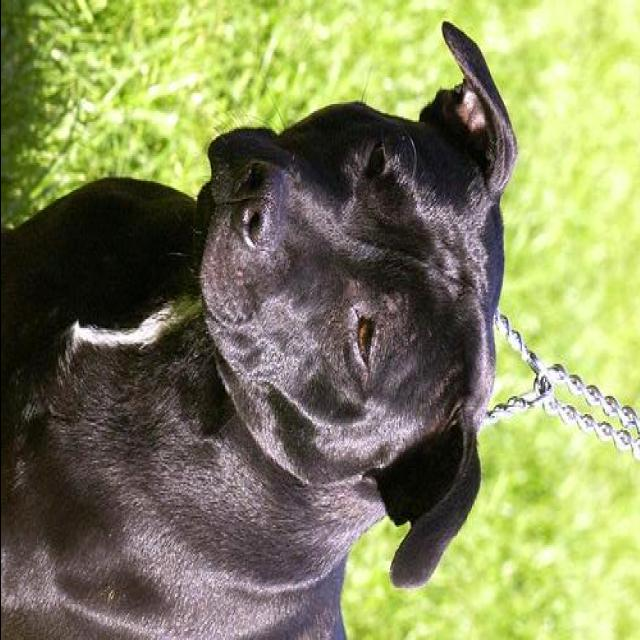staffordshire_bullterrier: (2, 12, 528, 638)
